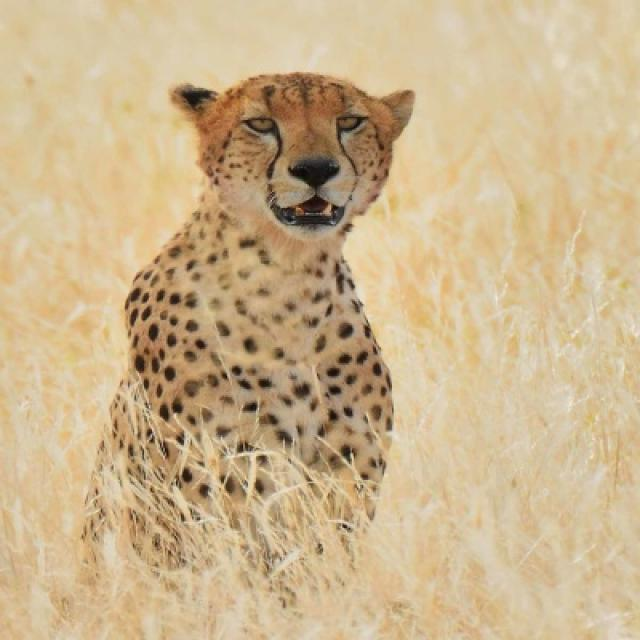Cheetah: (81, 70, 416, 559)
